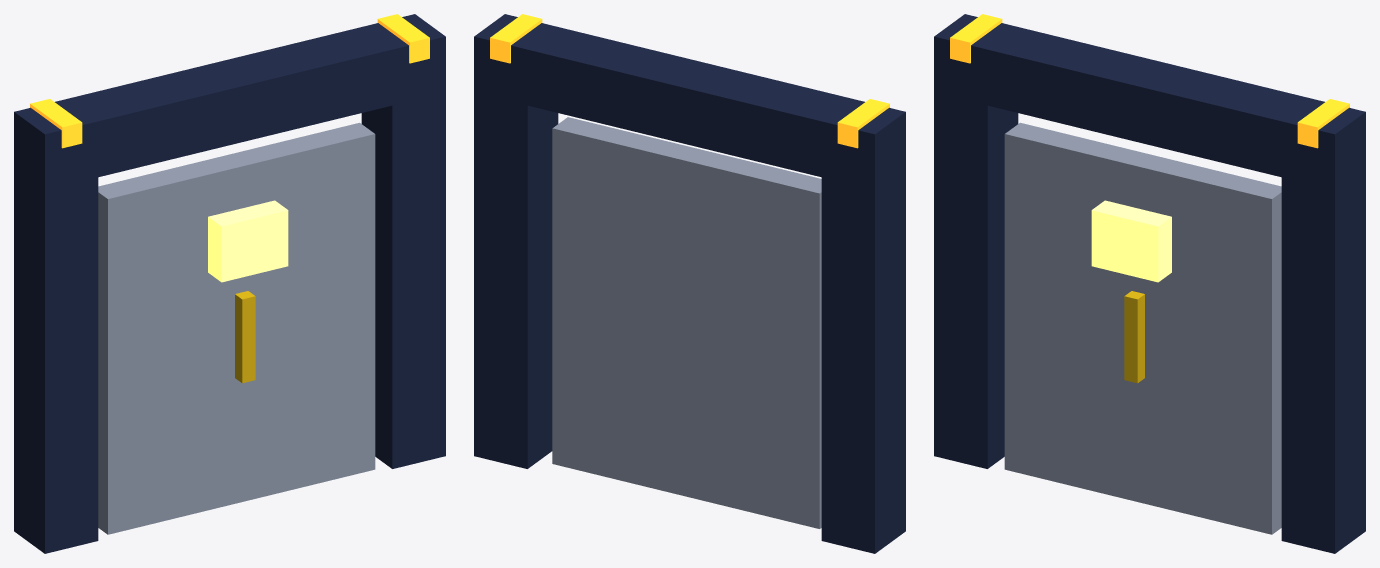
File: stationpack-airlock-door.glb
3 renders of one model, left to right at view 1: azimuth 30°, elevation 25°; view 2: azimuth 150°, elevation 25°; view 3: azimuth 330°, elevation 25°, orthographic.
Parts seen in each view (by area): view 1: airlock_door; view 2: airlock_door; view 3: airlock_door.
Part boxes in pixels (x1,y1,x2,y2): airlock_door: [14, 14, 445, 553]; airlock_door: [474, 14, 905, 553]; airlock_door: [934, 14, 1365, 553].
Bounding box in the file's own units: 3 × 3.03 × 0.535.
